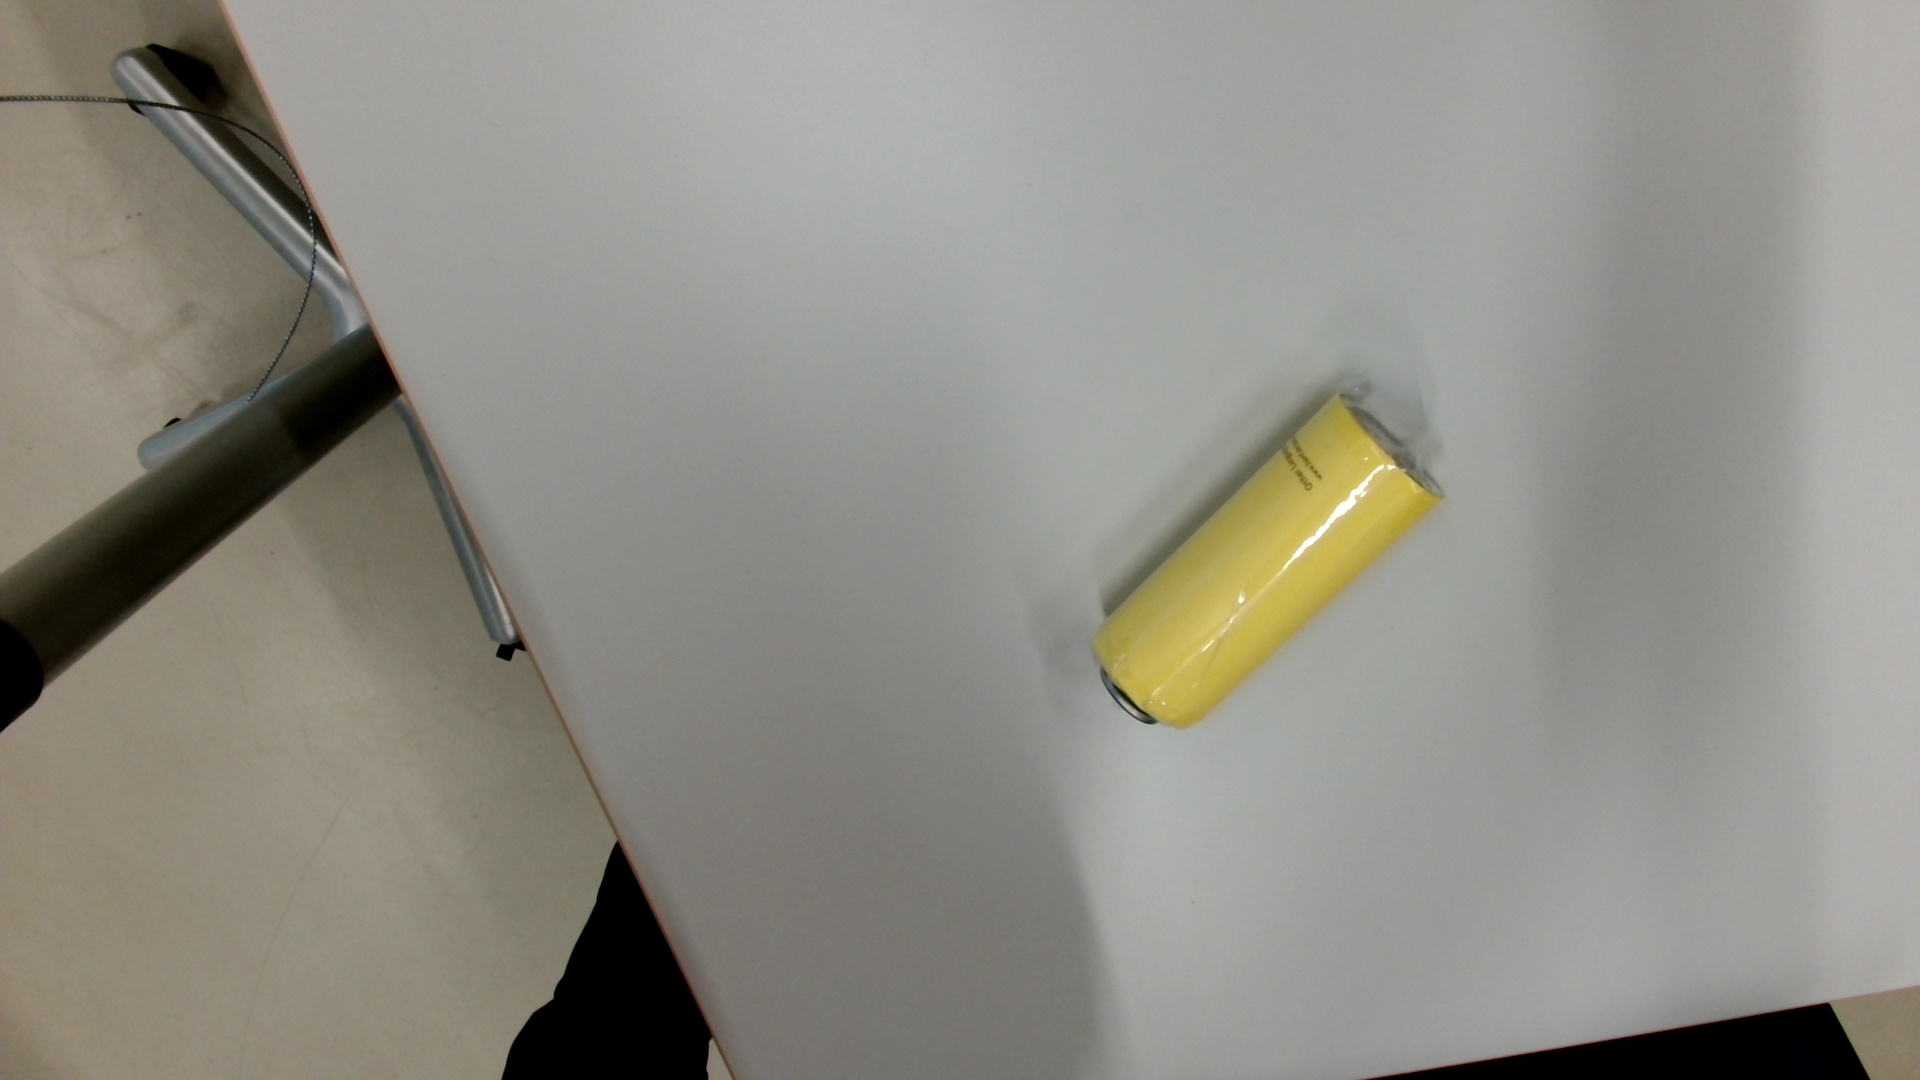Cylinder: (1062, 378, 1455, 752)
